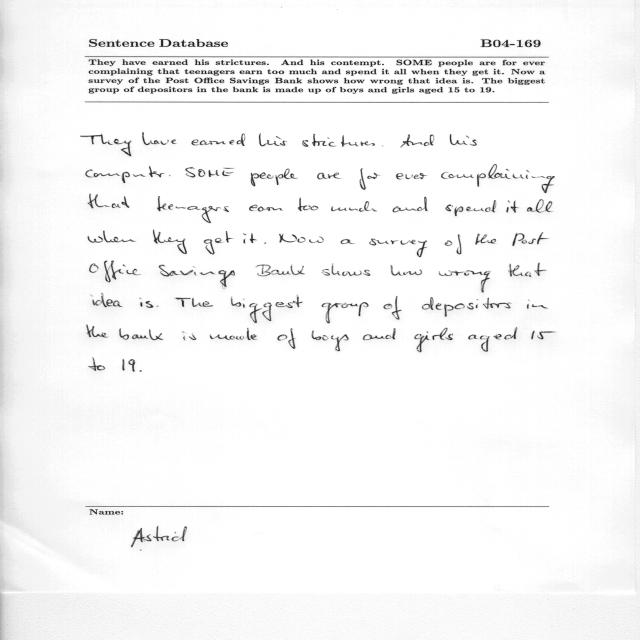word: (441, 164, 555, 193), (231, 295, 303, 323), (157, 196, 229, 223), (422, 297, 511, 317), (159, 265, 235, 287), (86, 166, 164, 183), (469, 327, 518, 352), (439, 271, 491, 293), (81, 134, 132, 156), (369, 239, 427, 258), (90, 261, 141, 282), (322, 302, 369, 324), (414, 328, 453, 353), (302, 134, 375, 147), (251, 169, 298, 187), (446, 200, 497, 216), (153, 230, 187, 254), (312, 331, 349, 351), (204, 231, 233, 255), (192, 133, 245, 146), (322, 263, 371, 276), (88, 231, 136, 243), (88, 194, 129, 208), (508, 262, 546, 277), (210, 328, 257, 340), (392, 197, 428, 212), (185, 167, 234, 178), (256, 265, 305, 276), (119, 328, 163, 340), (331, 201, 377, 212), (513, 232, 549, 246), (383, 296, 402, 320), (360, 168, 380, 190), (93, 293, 123, 307), (143, 133, 177, 145), (279, 234, 324, 243), (363, 328, 396, 340), (278, 328, 296, 349), (259, 134, 287, 147), (527, 199, 552, 213), (175, 298, 213, 307), (391, 265, 422, 276), (445, 235, 462, 255), (450, 134, 477, 146), (400, 135, 423, 148), (87, 325, 108, 338), (298, 198, 318, 211), (249, 205, 282, 212), (475, 234, 496, 245), (89, 358, 106, 371), (531, 331, 555, 339), (396, 173, 427, 179), (123, 359, 136, 372), (317, 173, 341, 180), (506, 201, 519, 213), (243, 234, 257, 244), (140, 298, 153, 308), (183, 332, 196, 341), (424, 135, 434, 146), (527, 304, 548, 309), (341, 239, 355, 244), (139, 370, 142, 372), (264, 242, 266, 244), (157, 305, 159, 307), (169, 175, 170, 176)
